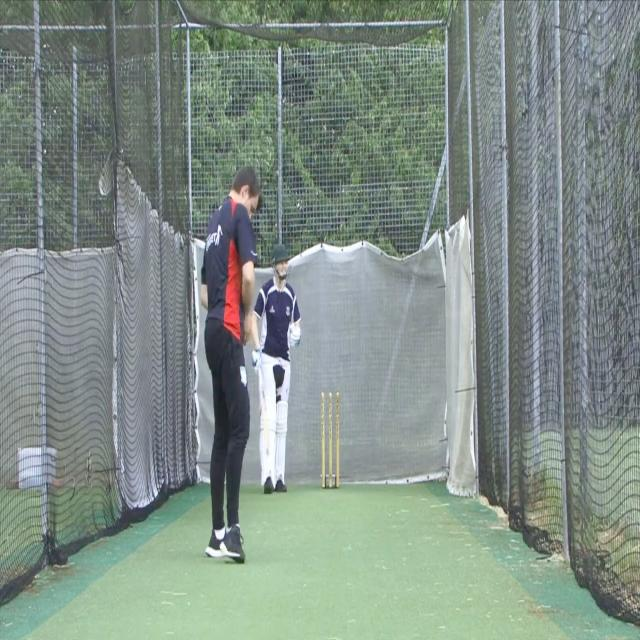batsman: (250, 242, 302, 496)
